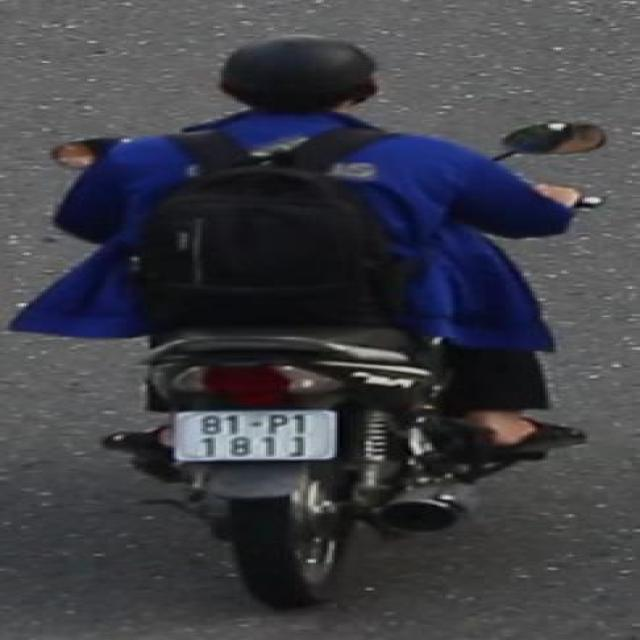LP: (172, 403, 349, 465)
helmet: (210, 30, 388, 132)
